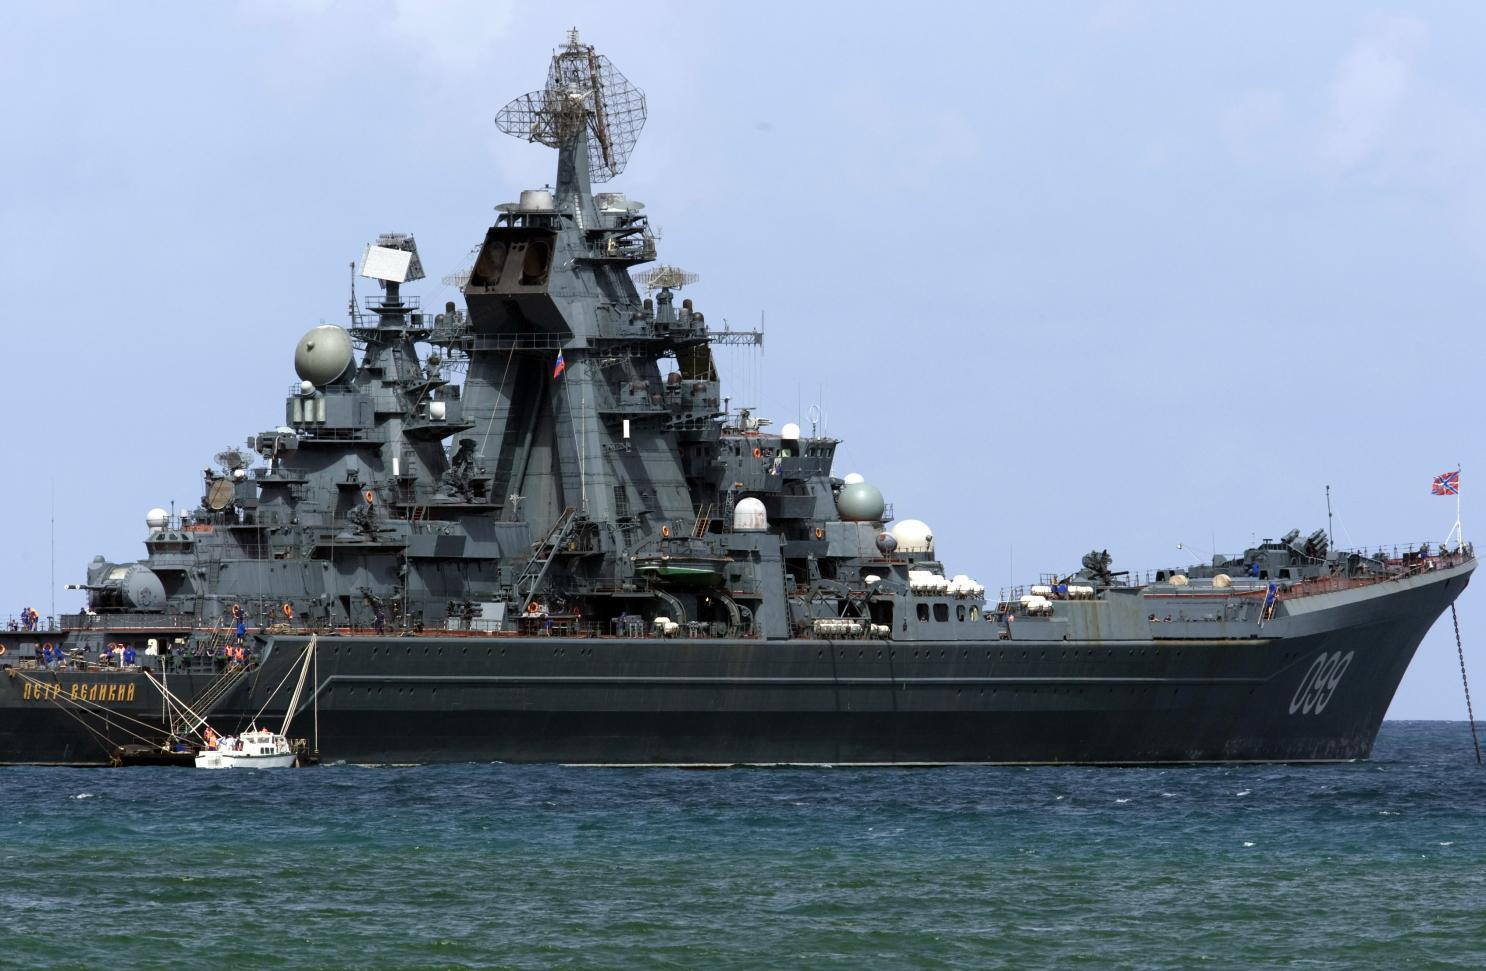MIL_Ship: (0, 100, 1483, 771)
